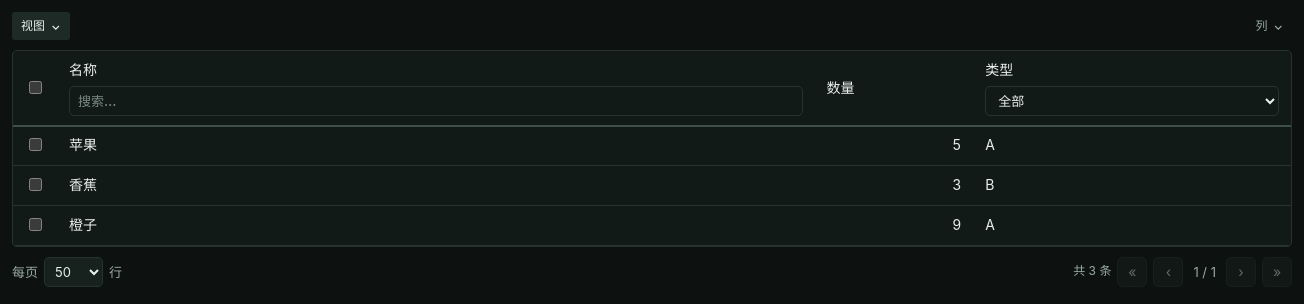
Test: DataTable client mode › filters by the global search box
Type "苹" into the field with placeholder "搜索…" at (436, 101), box [69, 86, 802, 116]
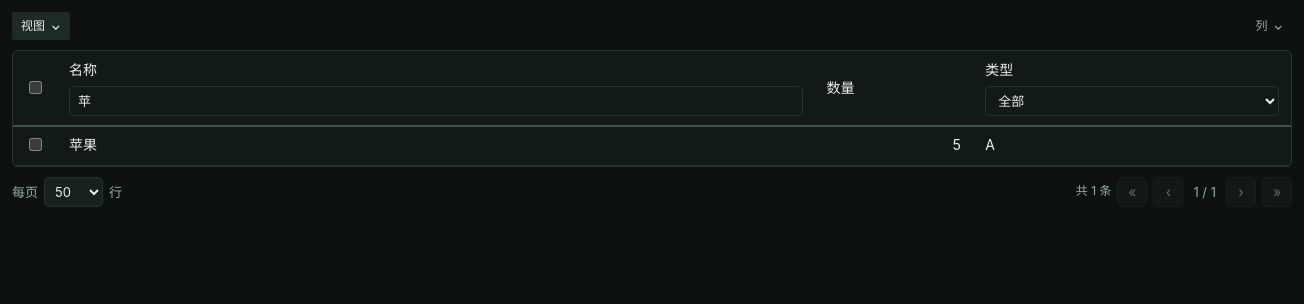
Expected: the text "苹果" is shown, [57, 126, 814, 166]
Expected: the text "香蕉" is gone
Expected: the text "共 1 条" is shown, [1076, 183, 1111, 200]
